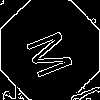M: (25, 25, 83, 81)
